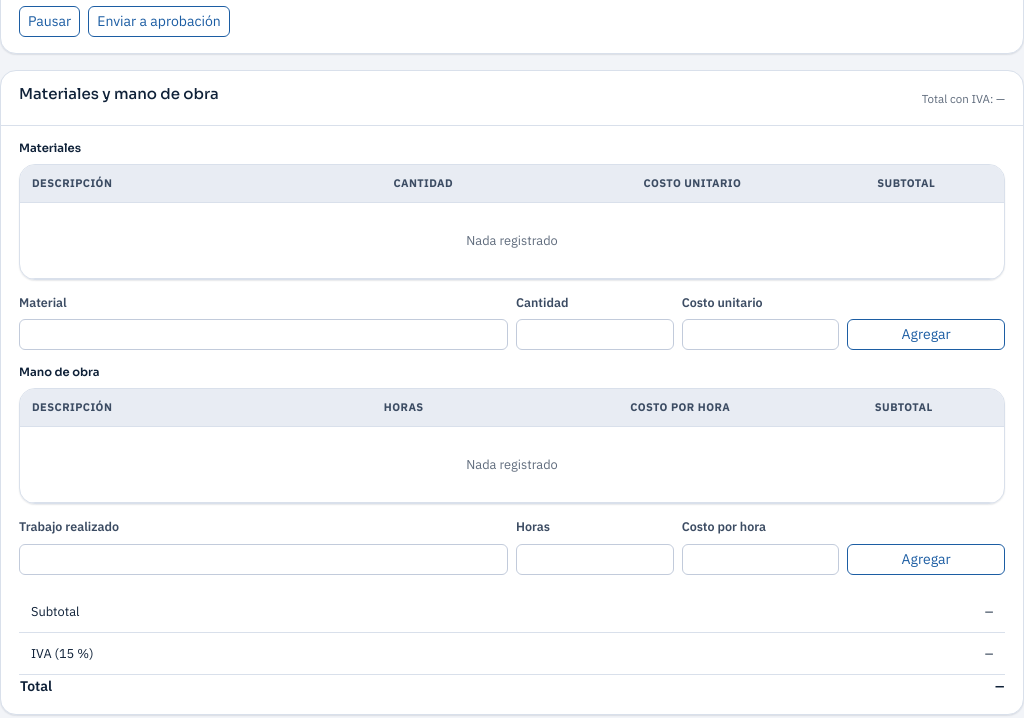
Test: La ficha › registra materiales y muestra el total con IVA
(page scrolled)
In the field labelled "Material": {"x": 264, "y": 335} [19,319,508,350], type "Breaker 20 A"
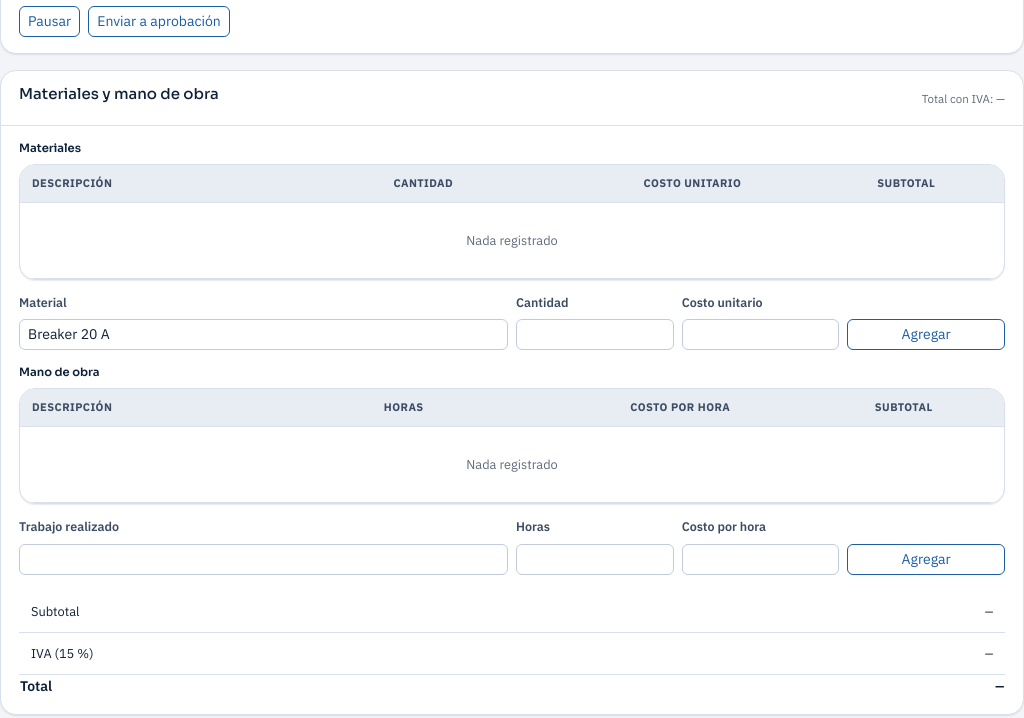
In the number field labelled "Cantidad": {"x": 595, "y": 335} [516,319,674,350], type "2"
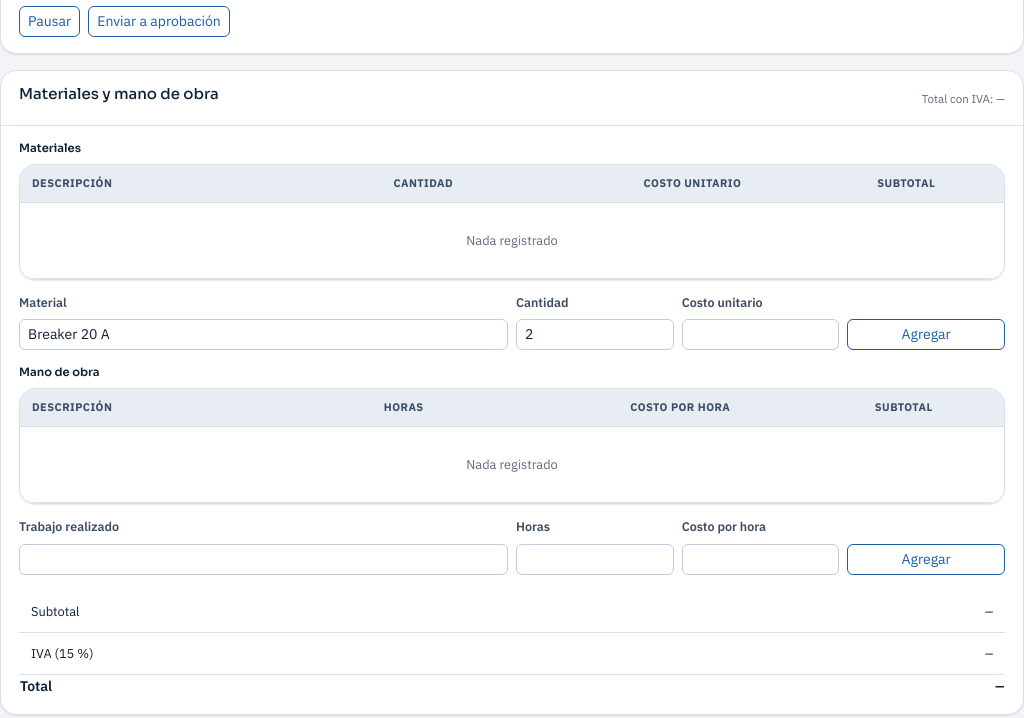
In the number field labelled "Costo unitario": {"x": 761, "y": 335} [682,319,839,350], type "15.50"
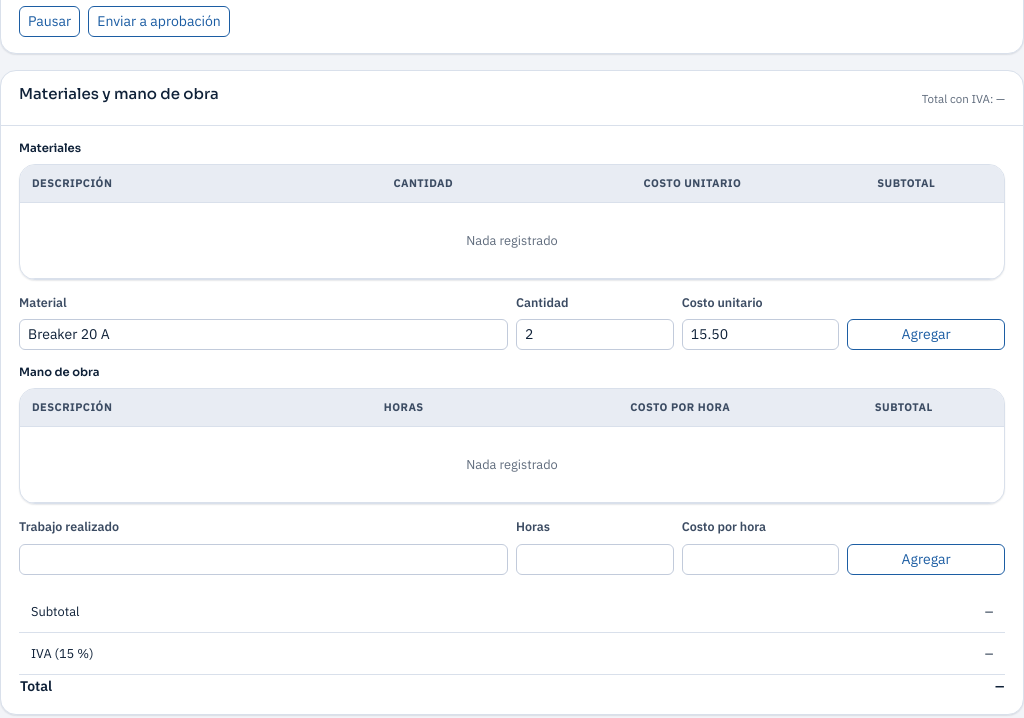
Click the 1st button "Agregar": {"x": 926, "y": 335} [847,319,1005,350]
(page scrolled)
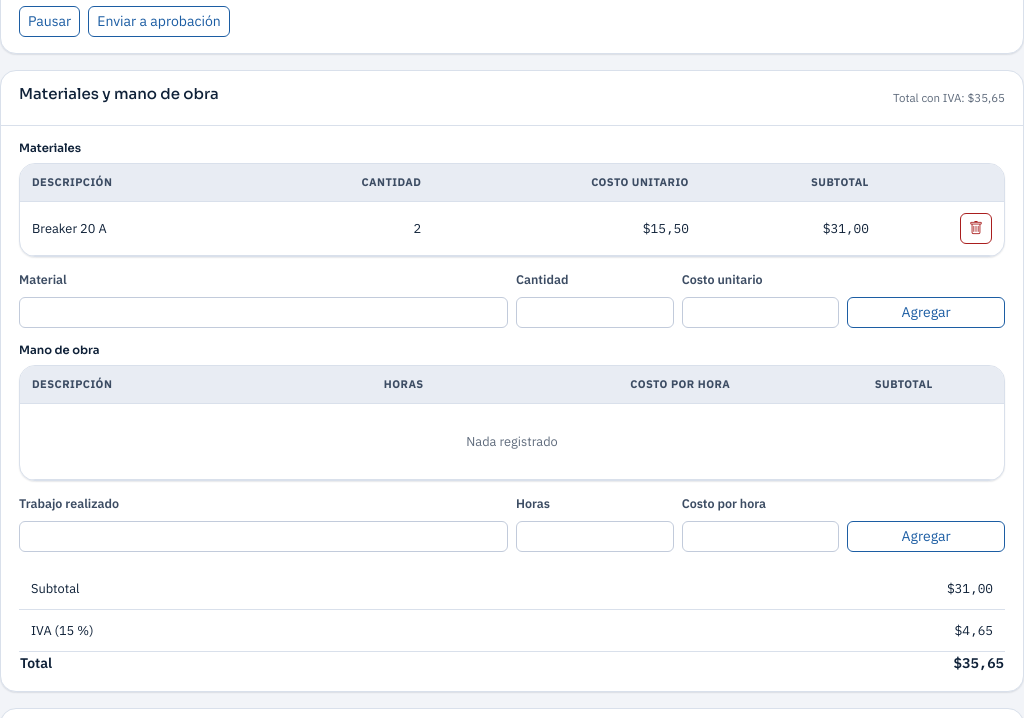
expect the text "IVA (15 %)" is shown: met, box [19,610,564,652]
expect the text "Breaker 20 A" is shown: met, box [20,201,249,255]
